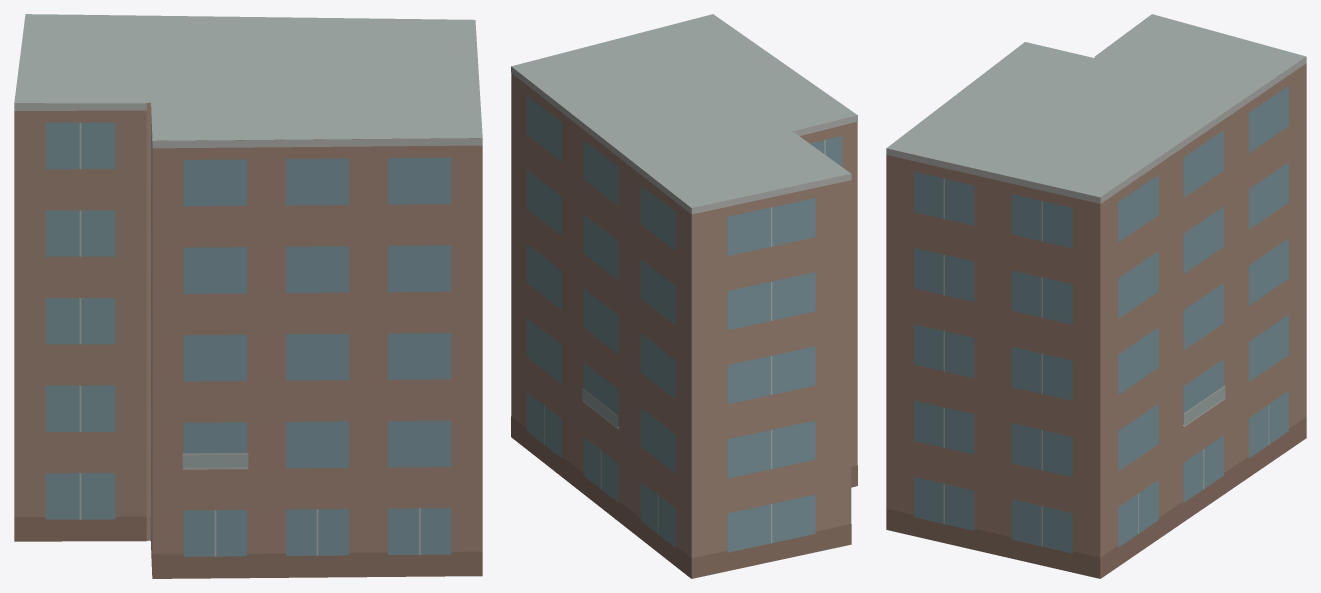
File: survey-upis-32780882.glb
The picture shows the model from 3 angles, left to right: view 1: azimuth 30°, elevation 25°; view 2: azimuth 150°, elevation 25°; view 3: azimuth 270°, elevation 25°; orthographic projection. The views are drawn at different scales.
Visible parts, largest first — view 1: survey-upis-32780882.tmp; view 2: survey-upis-32780882.tmp; view 3: survey-upis-32780882.tmp.
Part boxes in pixels (left/top/right/bottom): survey-upis-32780882.tmp: left=14, top=14, right=482, bottom=578; survey-upis-32780882.tmp: left=511, top=14, right=857, bottom=578; survey-upis-32780882.tmp: left=886, top=14, right=1306, bottom=578.
Size of the model in its own units: 14.65 by 14.2 by 14.19.
